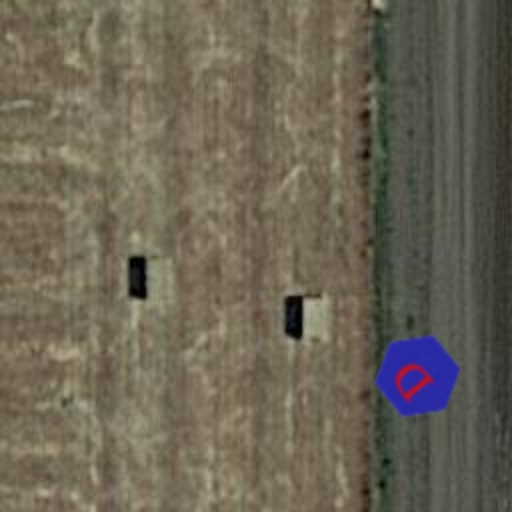hexagon: (356, 314, 480, 438)
